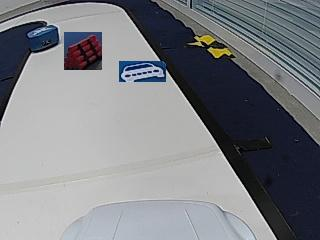prop: (28, 25, 59, 52)
